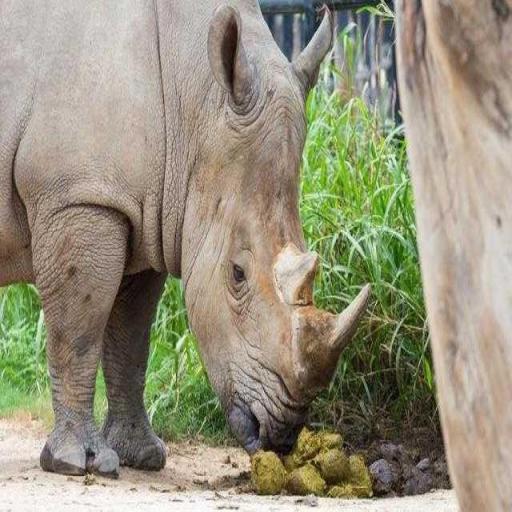Rhino: (0, 0, 372, 478)
